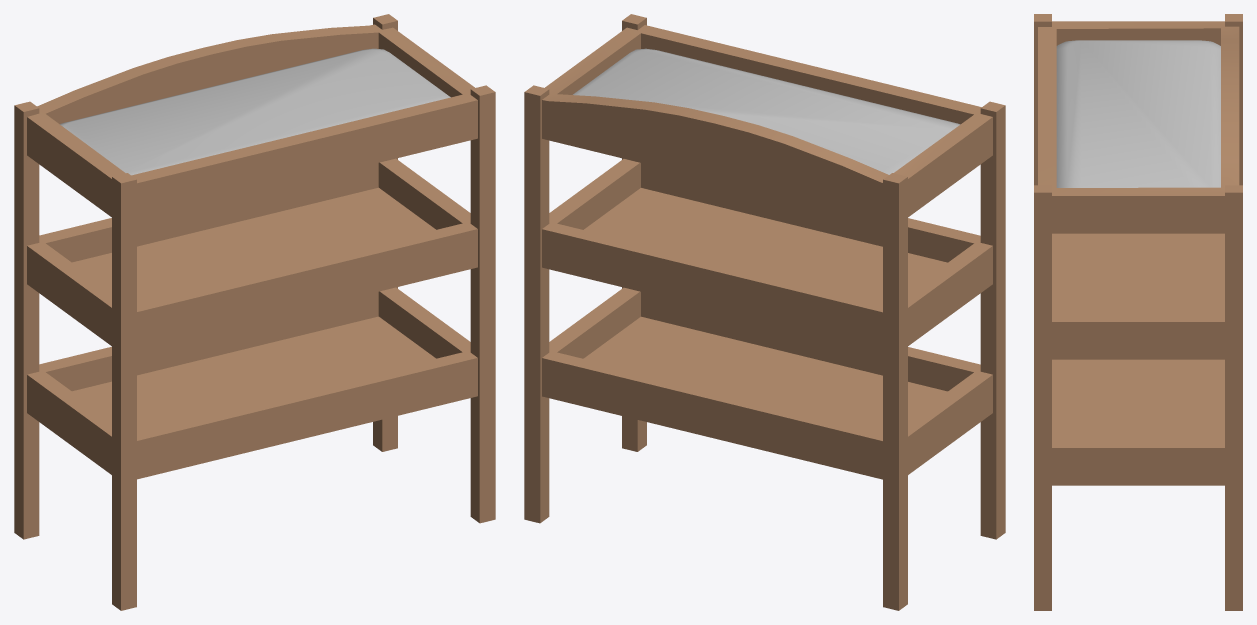
The model's file is BabyChanger_01.fbx.
The picture shows the model from 3 angles, left to right: view 1: azimuth 30°, elevation 25°; view 2: azimuth 150°, elevation 25°; view 3: azimuth 270°, elevation 25°; orthographic projection. The views are drawn at different scales.
Visible parts, largest first — view 1: BabyChanger_01; view 2: BabyChanger_01; view 3: BabyChanger_01.
Part boxes in pixels (x1=…): BabyChanger_01: x1=14, y1=14, x2=495, y2=610; BabyChanger_01: x1=524, y1=14, x2=1005, y2=610; BabyChanger_01: x1=1034, y1=14, x2=1242, y2=610.
Bounding box in the file's own units: 0.9366 × 1.05 × 0.4622.
